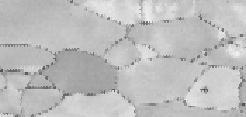good_void: (200, 85, 209, 94)
